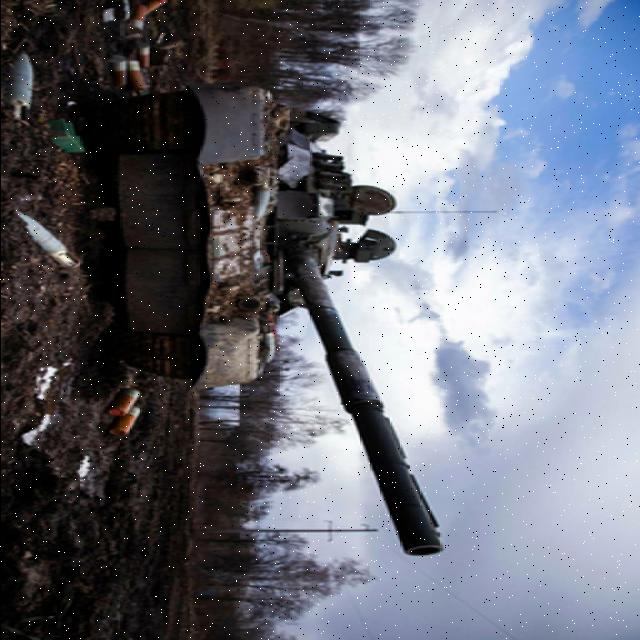TANK: (78, 86, 454, 565)
